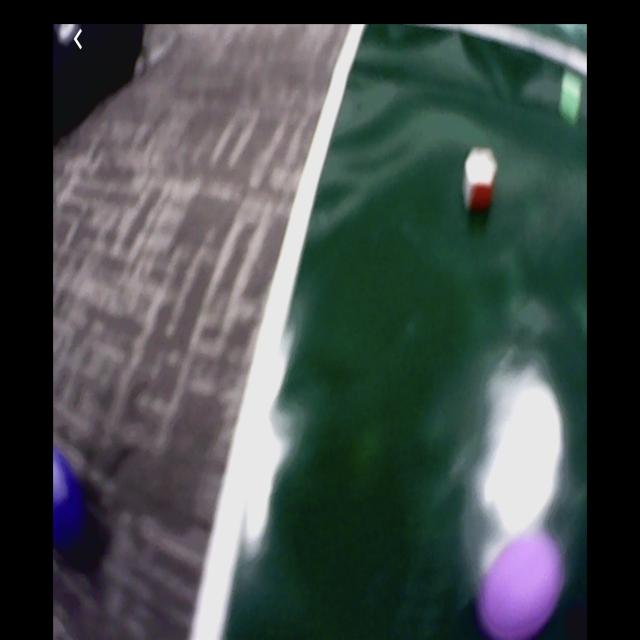ball: (481, 526, 560, 640), (53, 451, 83, 543)
